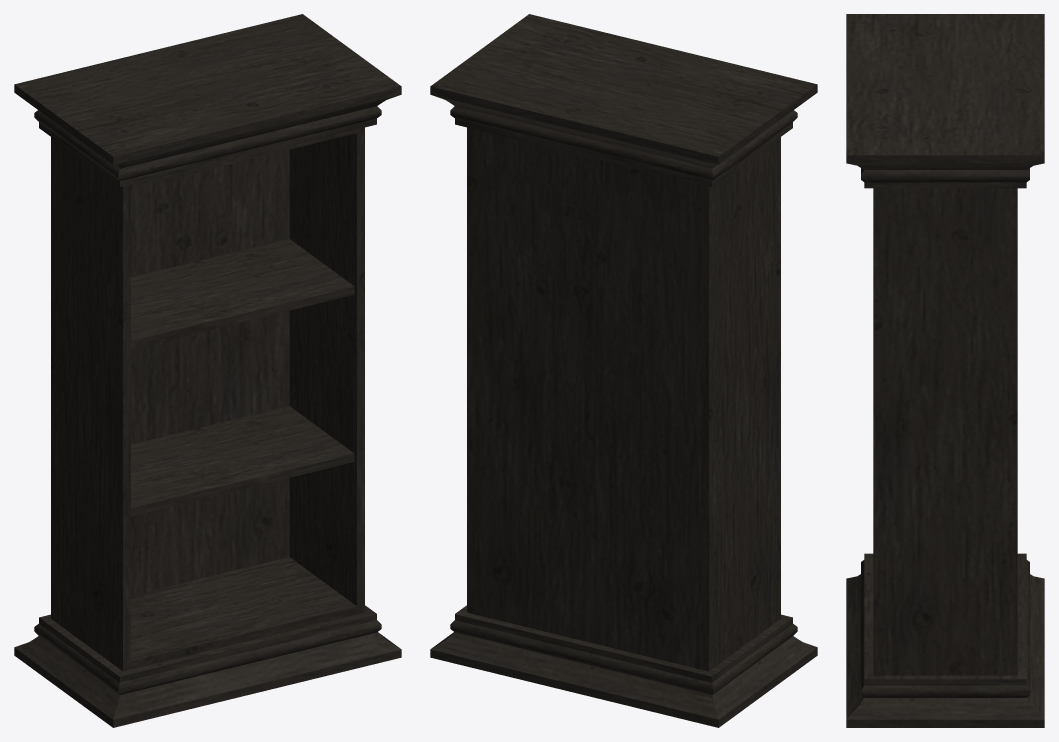
Rendered from shelf_mp_2.fbx.
3 renders of one model, left to right at view 1: azimuth 30°, elevation 25°; view 2: azimuth 150°, elevation 25°; view 3: azimuth 270°, elevation 25°, orthographic.
Visible parts, largest first — view 1: shelf_mp_2; view 2: shelf_mp_2; view 3: shelf_mp_2.
Part boxes in pixels (x1,y1,x2,y2): shelf_mp_2: [14, 14, 401, 727]; shelf_mp_2: [430, 14, 817, 727]; shelf_mp_2: [846, 14, 1044, 727].
Size of the model in its own units: 0.74 by 1.4 by 0.44.
